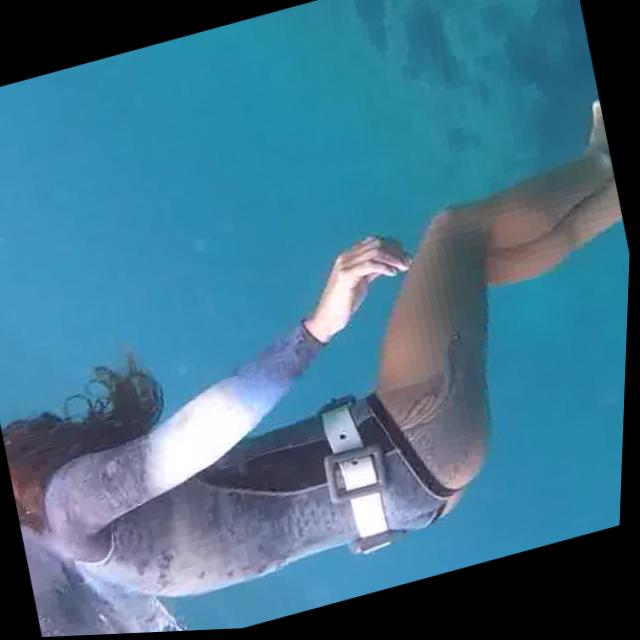human: (0, 93, 637, 640)
